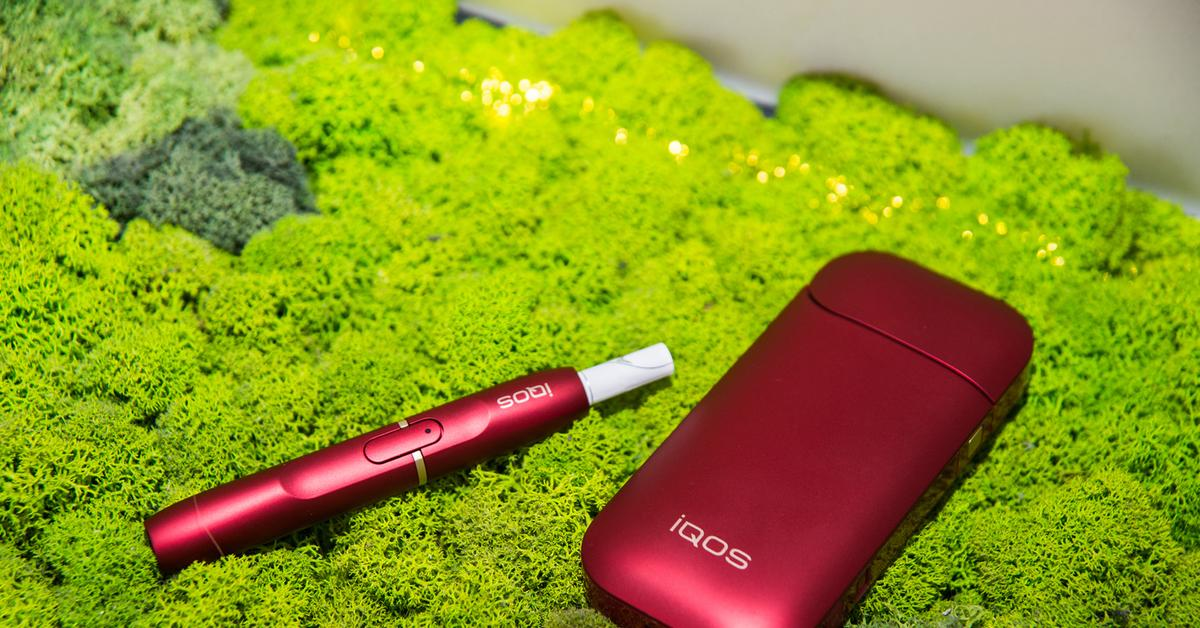iqos: (148, 343, 672, 569)
